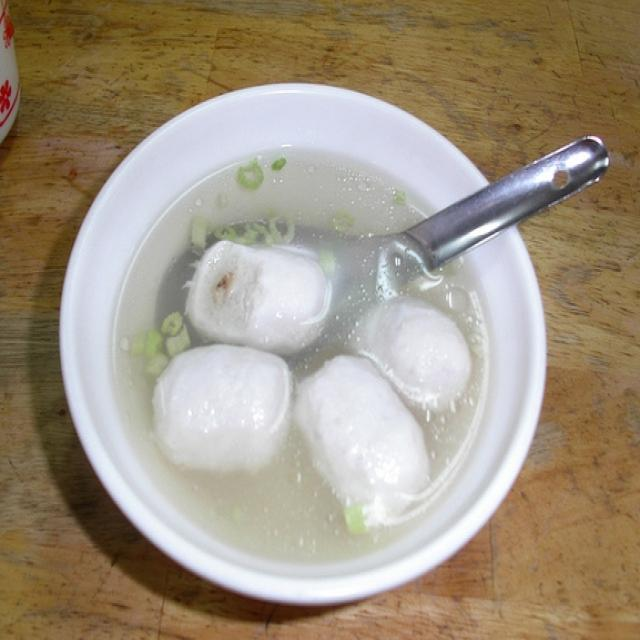熟制海鲜: (172, 204, 471, 522)
